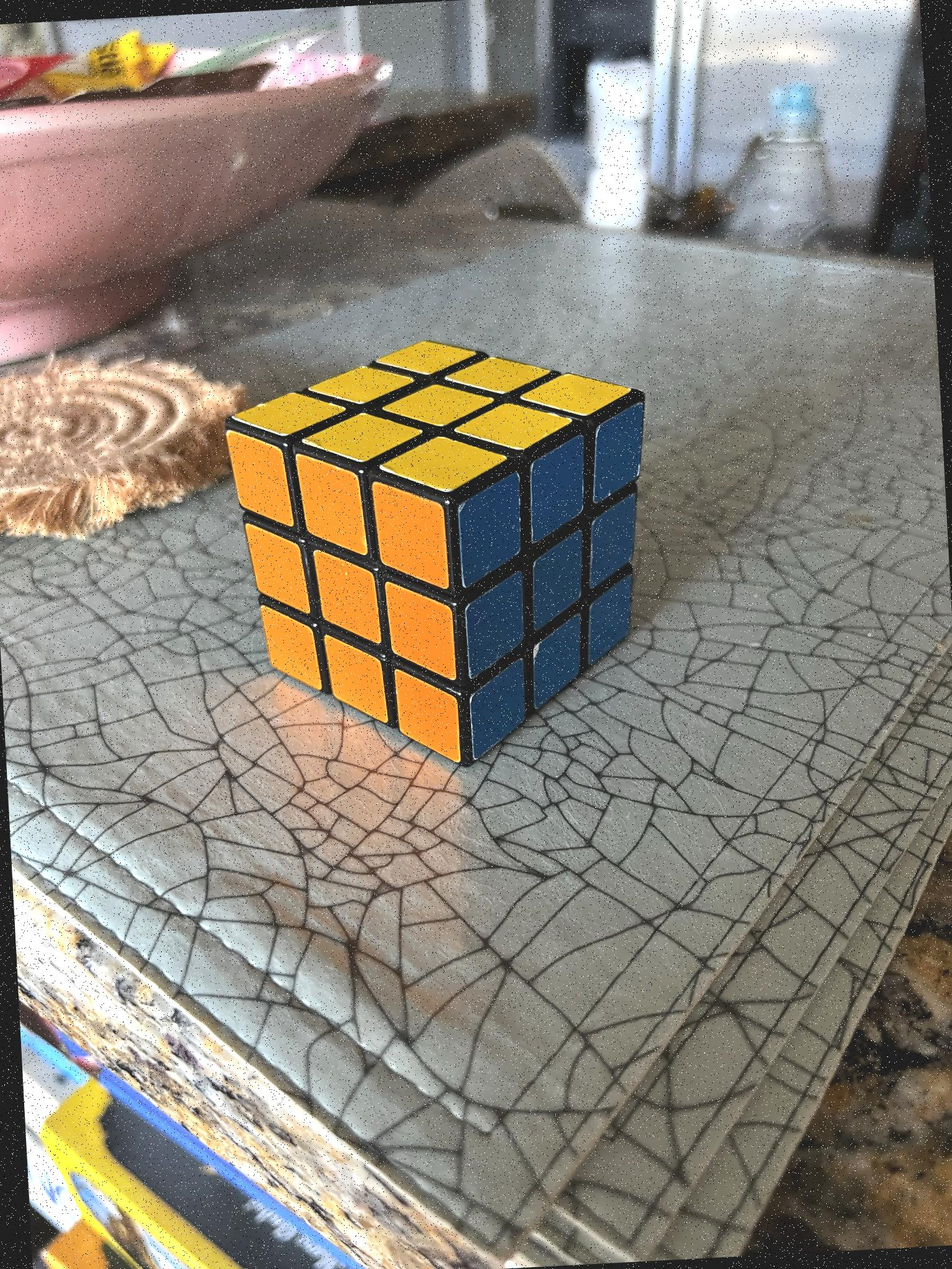rubiks_cube: (227, 339, 644, 762)
